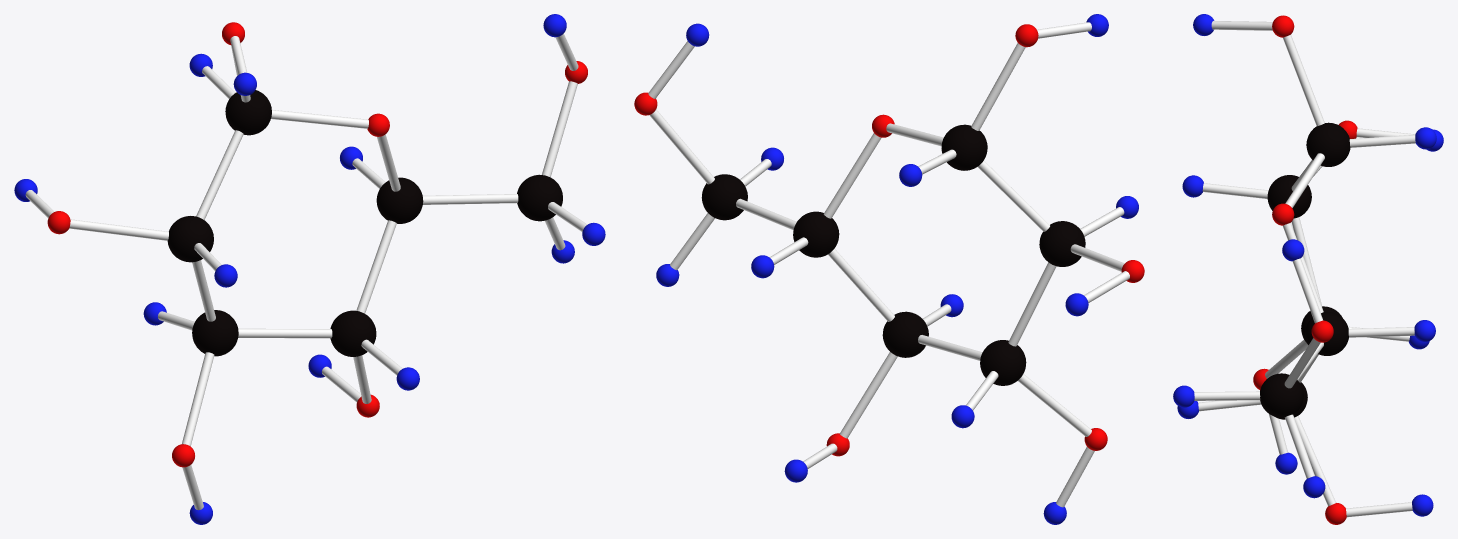
The model's file is glucose_color 1.fbx.
The picture shows the model from 3 angles, left to right: view 1: azimuth 30°, elevation 25°; view 2: azimuth 150°, elevation 25°; view 3: azimuth 270°, elevation 25°; orthographic projection. The views are drawn at different scales.
Visible parts, largest first — view 1: Atom6_Clone_, Atom6_Clone___1_, Atom6_Clone___5_, Atom6_Clone___2_, Atom6_Clone___3_, Atom6_Clone___4_, Bond1_Clone___6_, Bond1_Clone___1_, Bond1_Clone___10_, Bond1_Clone___13_, Bond1_Clone___17_, Bond1_Clone___4_ (+2 smaller); view 2: Atom6_Clone_, Atom6_Clone___5_, Atom6_Clone___4_, Atom6_Clone___3_, Atom6_Clone___1_, Atom6_Clone___2_, Bond1_Clone___2_, Bond1_Clone___8_, Bond1_Clone_, Bond1_Clone___19_, Bond1_Clone___10_, Bond1_Clone___15_ (+7 smaller); view 3: Atom6_Clone___4_, Atom6_Clone___5_, Atom6_Clone___3_, Atom6_Clone___2_, Bond1_Clone___8_, Bond1_Clone___2_, Bond1_Clone___3_, Bond1_Clone___11_, Bond1_Clone___22_, Bond1_Clone___18_, Bond1_Clone___23_, Bond1_Clone___21_ (+23 smaller).
Part boxes in pixels (<box>): Atom6_Clone_: <box>330,310,376,356</box>; Atom6_Clone___1_: <box>192,310,238,356</box>; Atom6_Clone___5_: <box>517,174,562,221</box>; Atom6_Clone___2_: <box>376,177,423,223</box>; Atom6_Clone___3_: <box>167,216,213,262</box>; Atom6_Clone___4_: <box>225,90,271,135</box>; Bond1_Clone___6_: <box>69,219,168,240</box>; Bond1_Clone___1_: <box>271,109,368,128</box>; Bond1_Clone___10_: <box>542,81,577,177</box>; Bond1_Clone___13_: <box>356,220,396,313</box>; Bond1_Clone___17_: <box>422,194,518,204</box>; Bond1_Clone___4_: <box>182,352,214,446</box>; Atom6_Clone_: <box>882,311,928,357</box>; Atom6_Clone___5_: <box>701,174,747,220</box>; Atom6_Clone___4_: <box>941,124,987,170</box>; Atom6_Clone___3_: <box>1039,221,1085,266</box>; Atom6_Clone___1_: <box>980,340,1026,385</box>; Atom6_Clone___2_: <box>793,211,839,257</box>; Bond1_Clone___2_: <box>839,352,897,438</box>; Bond1_Clone___8_: <box>971,43,1025,130</box>; Bond1_Clone_: <box>823,133,881,218</box>; Bond1_Clone___19_: <box>977,160,1049,231</box>; Bond1_Clone___10_: <box>649,109,714,184</box>; Bond1_Clone___15_: <box>1008,262,1056,346</box>; Atom6_Clone___4_: <box>1306,122,1350,166</box>; Atom6_Clone___5_: <box>1260,373,1303,417</box>; Atom6_Clone___3_: <box>1267,175,1311,218</box>; Atom6_Clone___2_: <box>1305,311,1348,355</box>; Bond1_Clone___8_: <box>1283,34,1324,126</box>; Bond1_Clone___2_: <box>1294,416,1335,506</box>; Bond1_Clone___3_: <box>1346,502,1412,517</box>; Bond1_Clone___11_: <box>1292,258,1323,323</box>; Bond1_Clone___22_: <box>1194,391,1260,400</box>; Bond1_Clone___18_: <box>1348,327,1414,337</box>; Bond1_Clone___23_: <box>1285,414,1314,478</box>; Bond1_Clone___21_: <box>1349,134,1415,147</box>.
Bounding box in the file's own units: 649 × 584 × 304.
